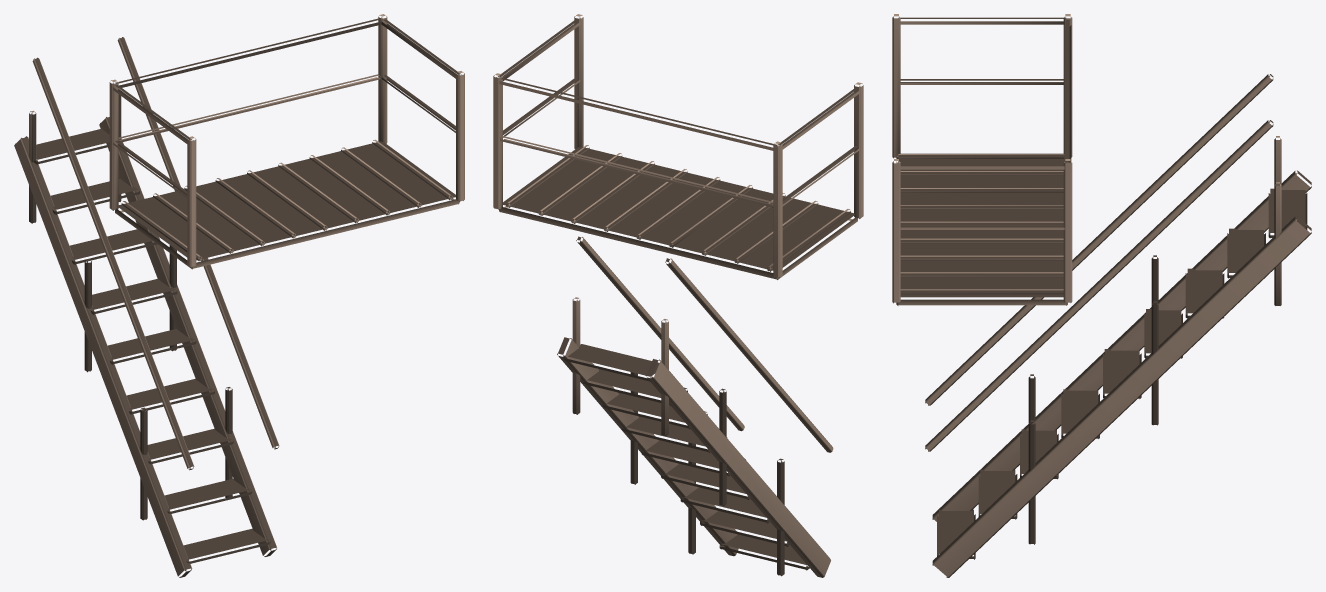
File: fire_escape.glb
The picture shows the model from 3 angles, left to right: view 1: azimuth 30°, elevation 25°; view 2: azimuth 150°, elevation 25°; view 3: azimuth 270°, elevation 25°; orthographic projection. The views are drawn at different scales.
Visible parts, largest first — view 1: facade_fire_escape; view 2: facade_fire_escape; view 3: facade_fire_escape.
Part boxes in pixels (<box>): facade_fire_escape: <box>14,14,464,577</box>; facade_fire_escape: <box>493,14,863,577</box>; facade_fire_escape: <box>892,14,1311,577</box>.
Size of the model in its own units: 2.46 by 3.93 by 2.94.
